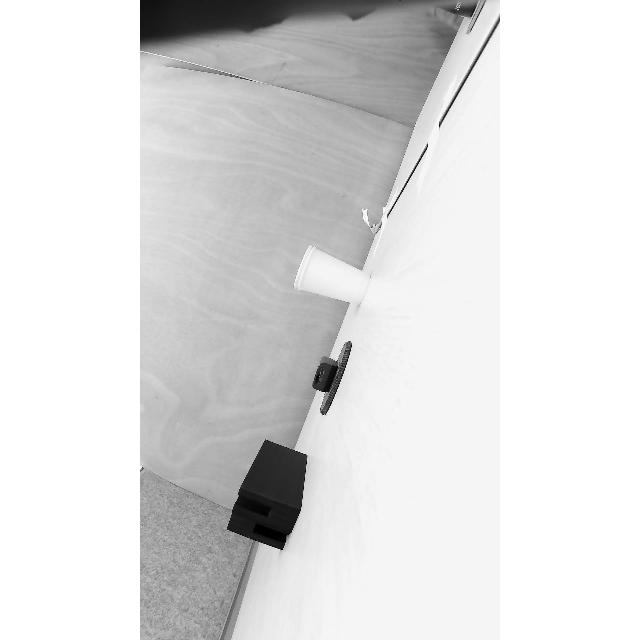targets: (225, 435, 311, 551), (290, 243, 372, 310), (310, 339, 356, 415)
